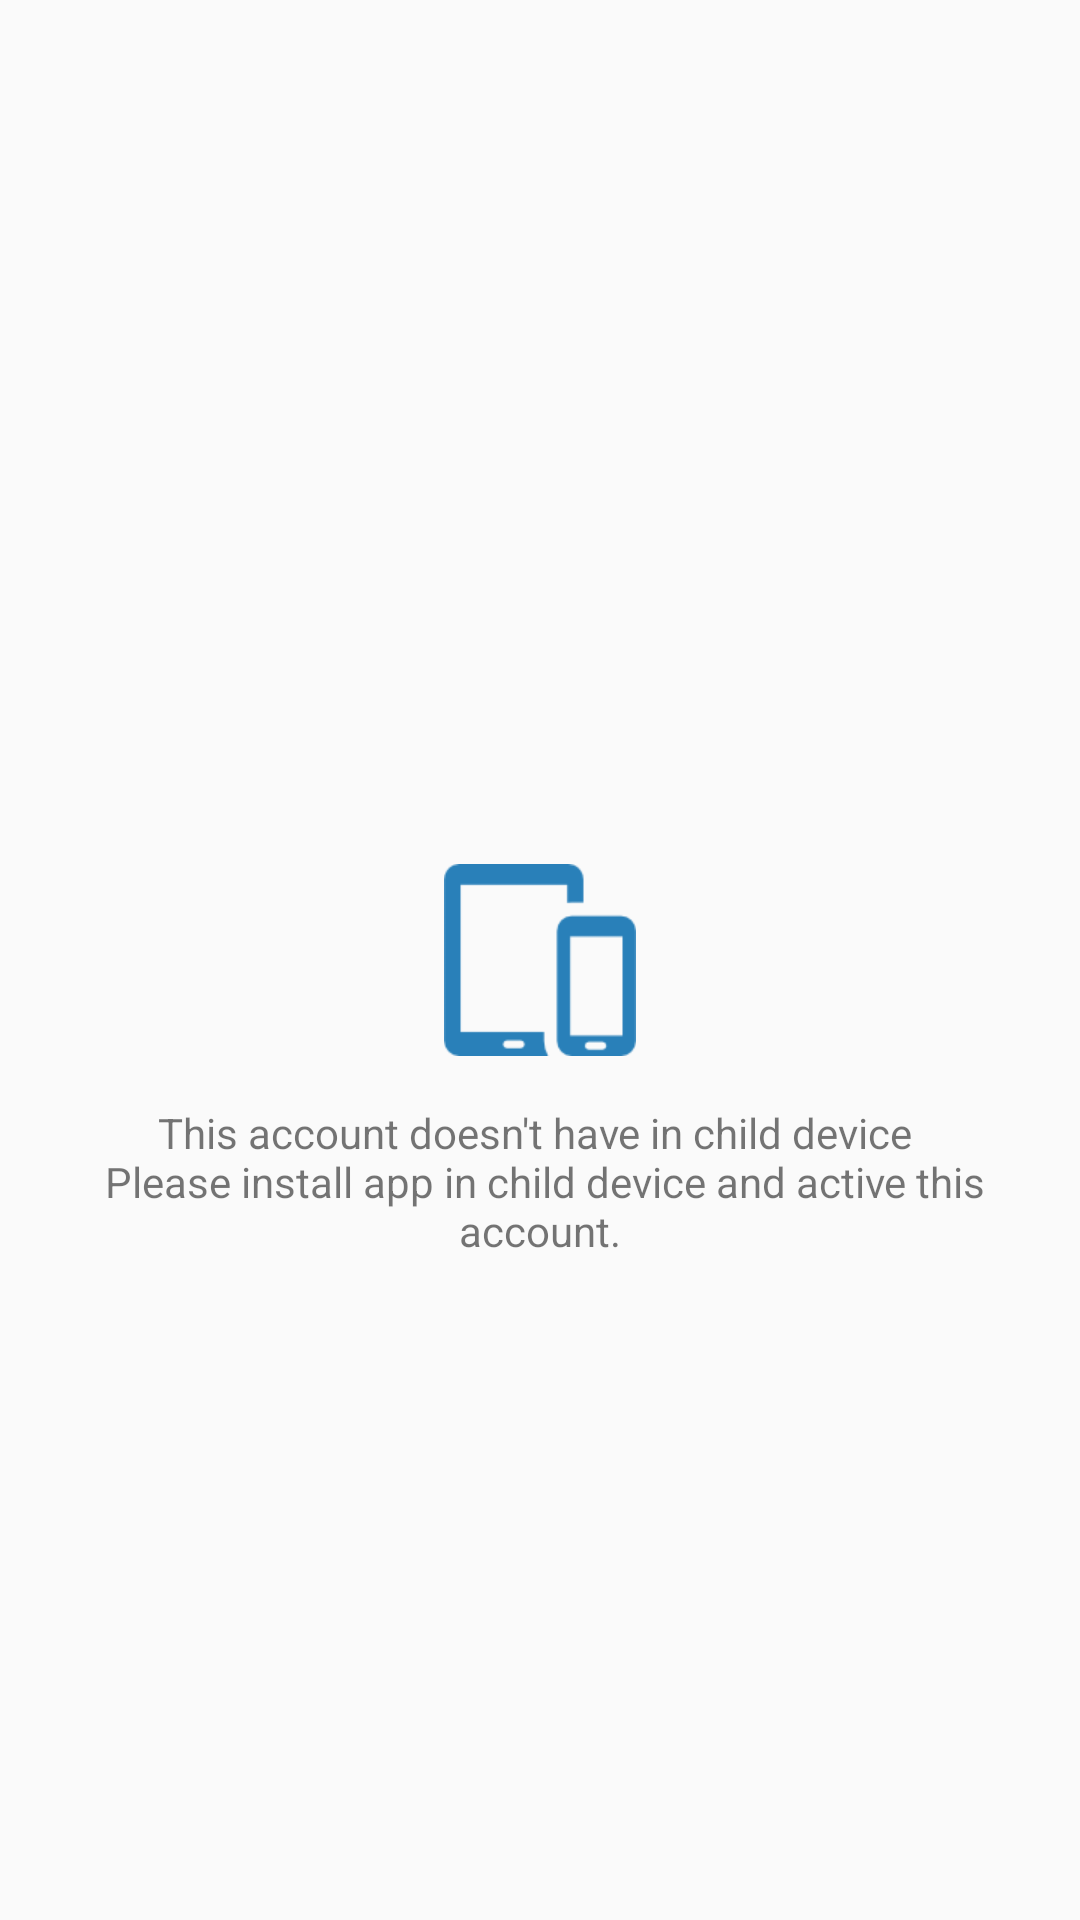

Screen size 1080px x 1920px. Icon name, then its center in pixels as (x=x, y=y):
devices: (x=540, y=960)
